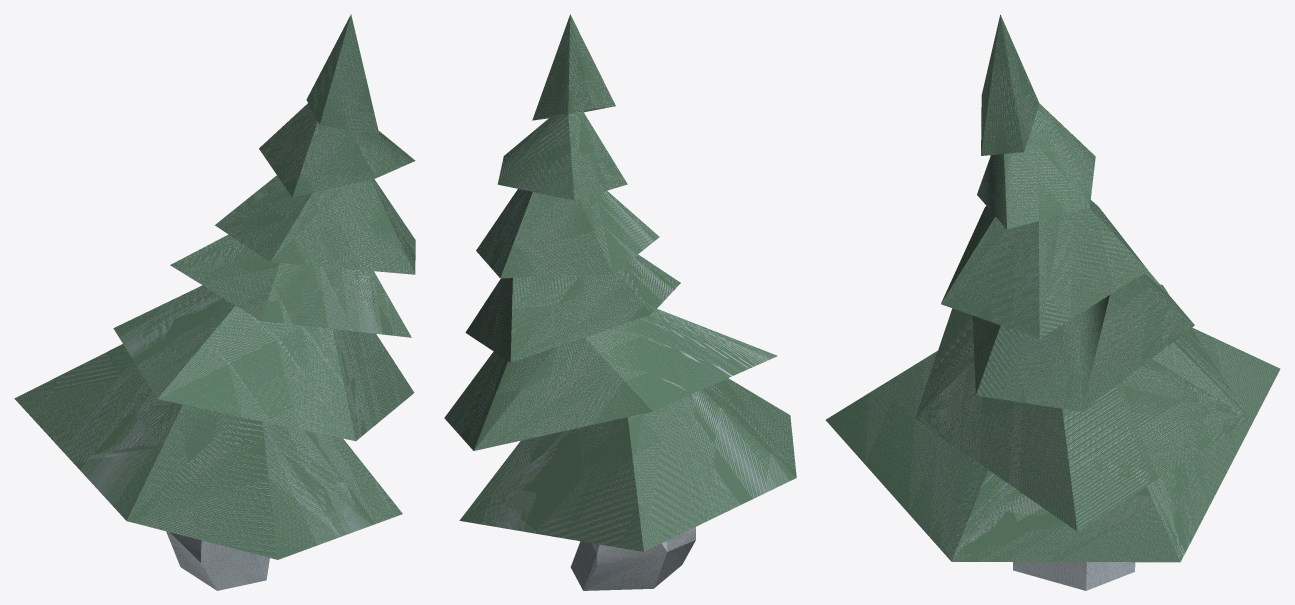
The model's file is Tree_Pine_03.fbx.
3 views of the same model, side by side, from view 1: azimuth 30°, elevation 25°; view 2: azimuth 150°, elevation 25°; view 3: azimuth 270°, elevation 25° (orthographic). The views are drawn at different scales.
Parts seen in each view (by area): view 1: Model; view 2: Model; view 3: Model.
Boxes of the visible parts, box(x1,y1,x2,y2) form: Model: box(14, 14, 415, 590); Model: box(444, 14, 796, 590); Model: box(826, 14, 1280, 590).
Size of the model in its own units: 434 by 688 by 475.
